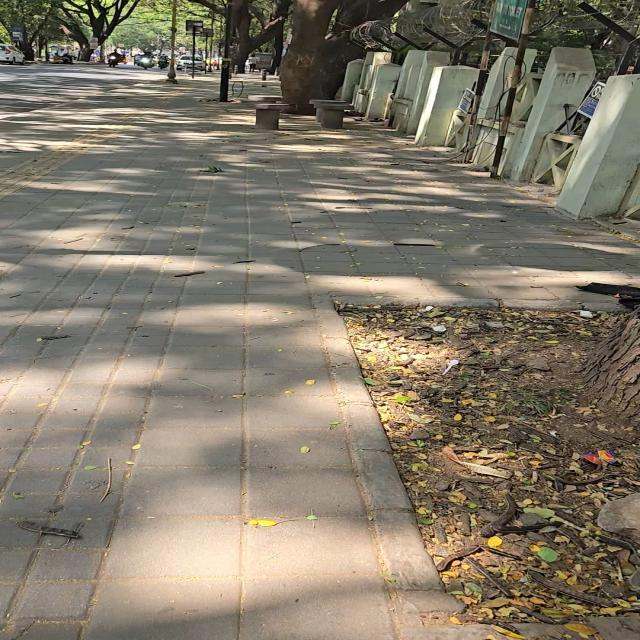bench: (310, 100, 353, 128), (255, 103, 289, 130), (248, 95, 282, 103)
pole: (491, 0, 535, 178), (464, 0, 495, 162), (220, 2, 232, 103), (166, 0, 177, 83), (209, 11, 215, 72), (192, 25, 196, 78), (204, 35, 208, 73)
step: (355, 304, 639, 629)
tree: (282, 0, 406, 113)
